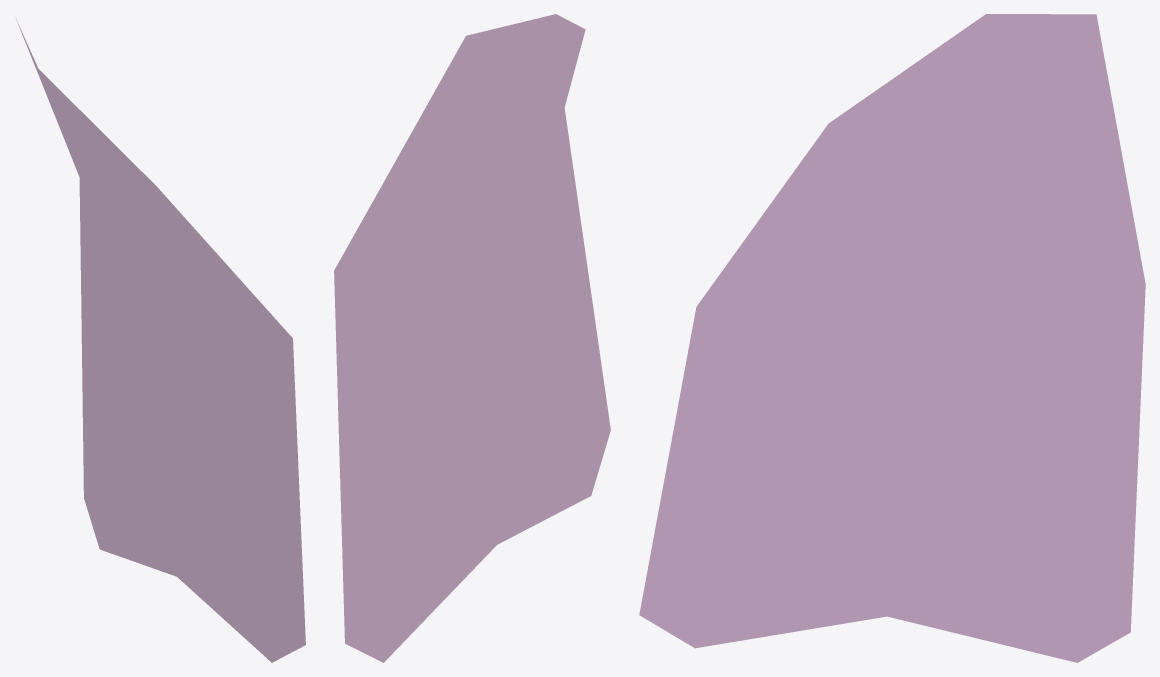
The model's file is Portal.fbx.
3 renders of one model, left to right at view 1: azimuth 30°, elevation 25°; view 2: azimuth 150°, elevation 25°; view 3: azimuth 270°, elevation 25°, orthographic. The views are drawn at different scales.
Parts seen in each view (by area): view 1: Portal; view 2: Portal; view 3: Portal.
Boxes of the visible parts, x1,y1,x2,y2 form: Portal: (16, 19, 305, 662); Portal: (334, 14, 610, 662); Portal: (639, 14, 1145, 662).
Bounding box in the file's own units: 350 × 1483 × 1121.
